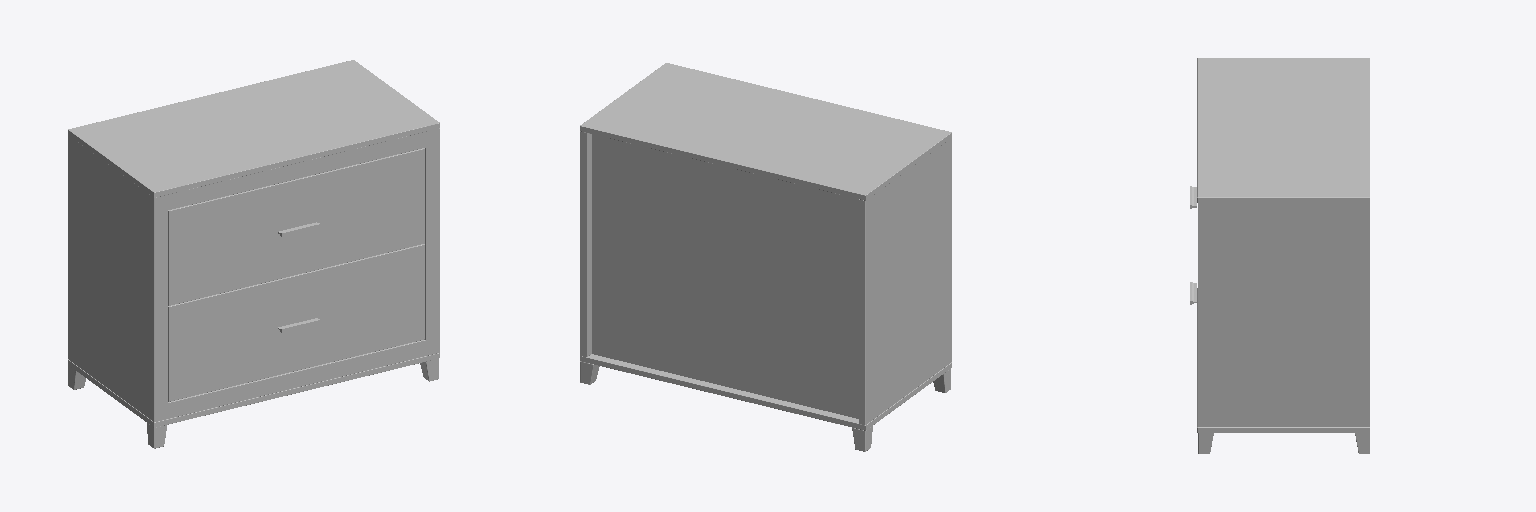
File: Dresser.obj
3 renders of one model, left to right at view 1: azimuth 30°, elevation 25°; view 2: azimuth 150°, elevation 25°; view 3: azimuth 270°, elevation 25°, orthographic.
Parts seen in each view (by area): view 1: dresser_top_1_001, dresser_drawer_front_1_001, dresser_drawer_front_001, dreseer_side_board_1_001, dresser_board_top_1_002, dresser_board_top_1_001, dreseer_side_board_1_003, dresser_top_1_002; view 2: dresser_back_1_001, dresser_top_1_001, dreseer_side_board_1_001, dresser_top_1_002, dreseer_side_board_1_003; view 3: dreseer_side_board_1_003, dresser_top_1_001, dresser_top_1_002.
Boxes of the visible parts, x1,y1,x2,y2 form: dresser_top_1_001: [68, 60, 439, 197]; dresser_drawer_front_1_001: [168, 244, 424, 401]; dresser_drawer_front_001: [168, 148, 424, 305]; dreseer_side_board_1_001: [68, 135, 167, 421]; dresser_board_top_1_002: [168, 340, 425, 418]; dresser_board_top_1_001: [168, 132, 425, 209]; dreseer_side_board_1_003: [425, 128, 439, 355]; dresser_top_1_002: [68, 353, 439, 427]; dresser_back_1_001: [592, 134, 858, 418]; dresser_top_1_001: [580, 63, 951, 200]; dreseer_side_board_1_001: [859, 138, 951, 424]; dresser_top_1_002: [580, 354, 951, 430]; dreseer_side_board_1_003: [580, 131, 591, 356]; dreseer_side_board_1_003: [1198, 203, 1369, 426]; dresser_top_1_001: [1197, 58, 1369, 202]; dresser_top_1_002: [1197, 288, 1369, 432].
Size of the model in its own units: 1067 by 914 by 584.